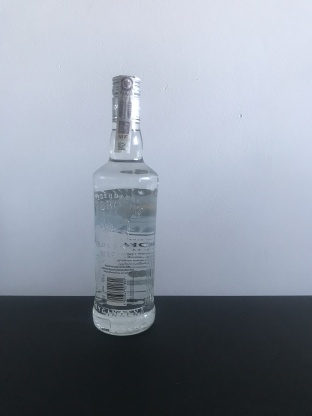nakretka: (109, 70, 143, 126)
